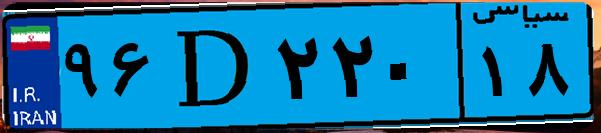0: (385, 28, 445, 110)
1: (475, 38, 525, 113)
2: (270, 28, 330, 110), (330, 28, 385, 110)
6: (110, 28, 158, 98)
8: (525, 38, 570, 115)
9: (57, 26, 110, 100)
D: (158, 12, 270, 120)
